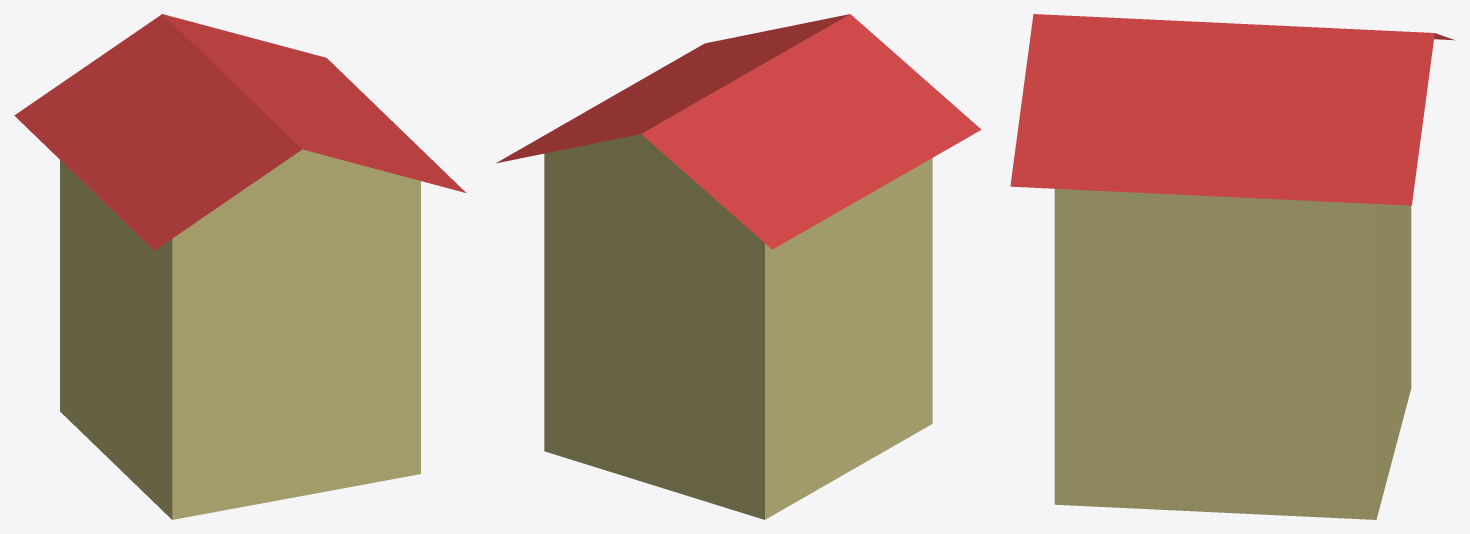
The picture shows the model from 3 angles, left to right: view 1: azimuth 30°, elevation 25°; view 2: azimuth 150°, elevation 25°; view 3: azimuth 270°, elevation 25°; orthographic projection. The views are drawn at different scales.
Size of the model in its own units: 8.17 by 8.34 by 8.65.
